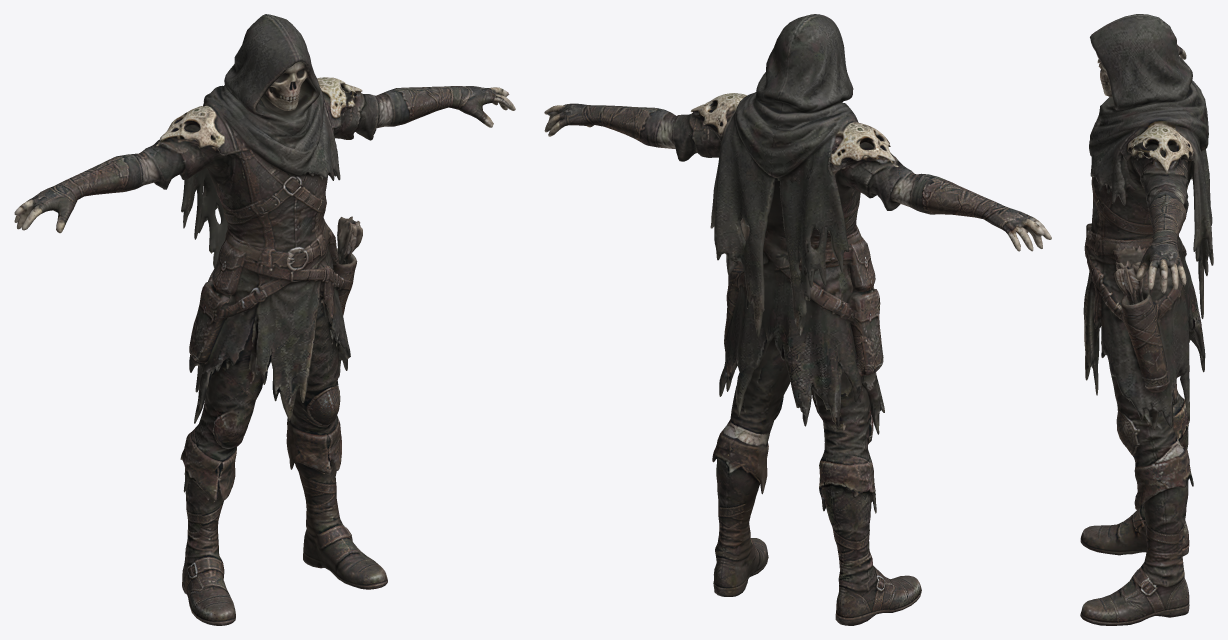
File: archer.obj
The picture shows the model from 3 angles, left to right: view 1: azimuth 30°, elevation 25°; view 2: azimuth 150°, elevation 25°; view 3: azimuth 270°, elevation 25°; orthographic projection.
Parts seen in each view (by area): view 1: archer_character; view 2: archer_character; view 3: archer_character.
Part boxes in pixels (box(x1,y1,x2,y2)): archer_character: box(14, 14, 515, 625); archer_character: box(544, 14, 1051, 625); archer_character: box(1080, 14, 1213, 625).
Size of the model in its own units: 1.63 by 1.8 by 0.3831.
1 material, 1 textured.
